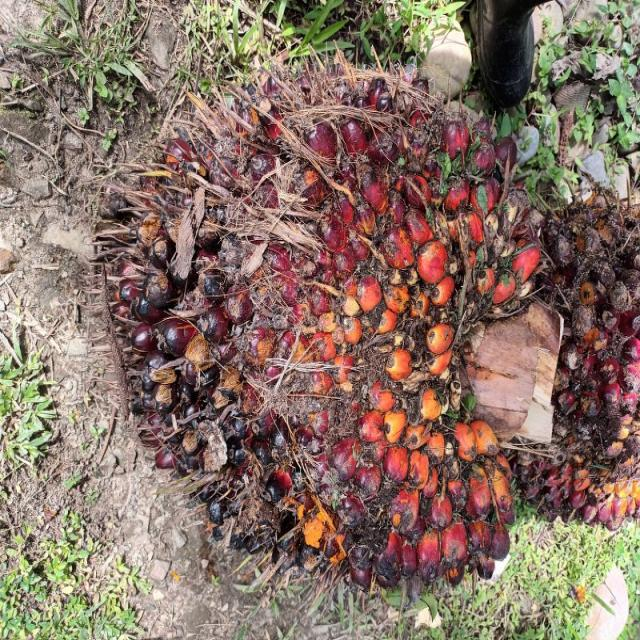fraksi 1: (24, 55, 458, 640)
